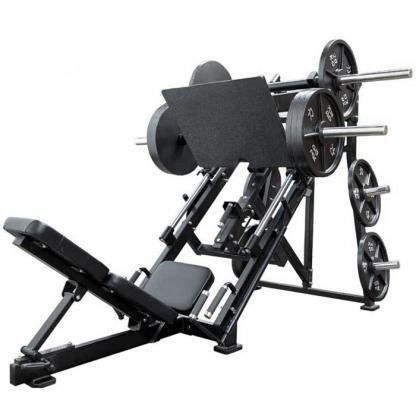leg press: (0, 29, 414, 416)
